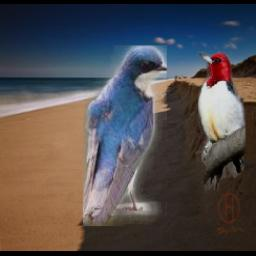Swallow: (83, 46, 167, 227)
Woodpecker: (195, 51, 246, 194)
